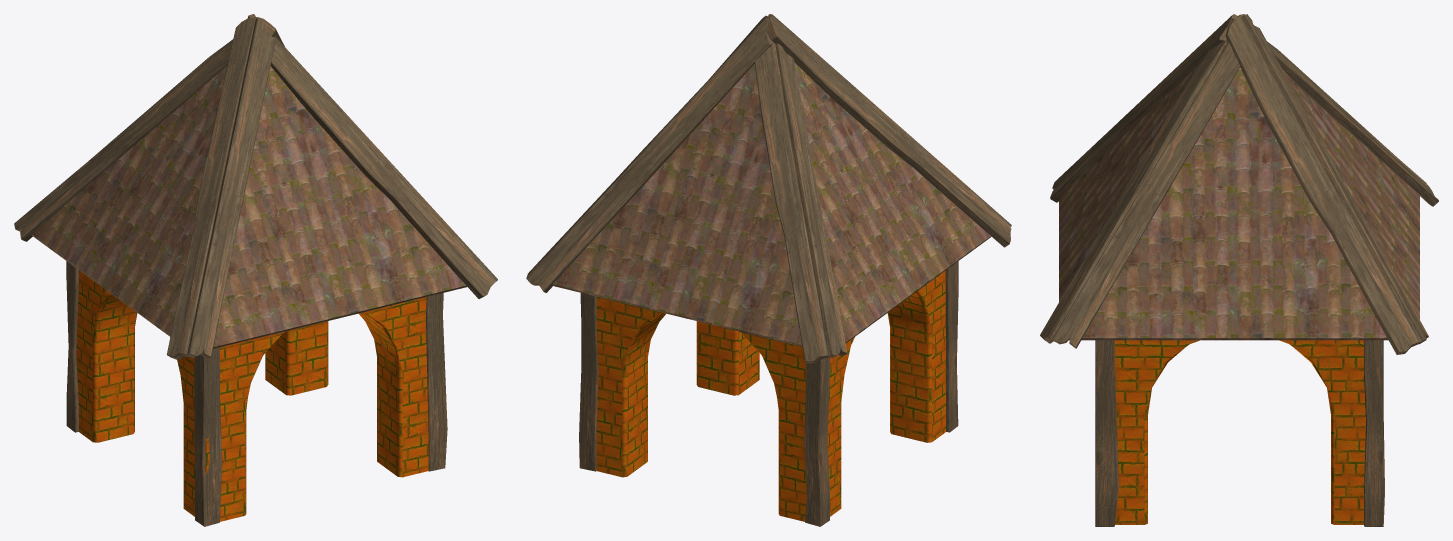
File: SM_roof_tower_01.fbx
The picture shows the model from 3 angles, left to right: view 1: azimuth 30°, elevation 25°; view 2: azimuth 150°, elevation 25°; view 3: azimuth 270°, elevation 25°; orthographic projection. The views are drawn at different scales.
Parts seen in each view (by area): view 1: SM_roof_tower_01_LOD0; view 2: SM_roof_tower_01_LOD0; view 3: SM_roof_tower_01_LOD0.
Part boxes in pixels (x1=…): SM_roof_tower_01_LOD0: x1=14, y1=14, x2=497, y2=526; SM_roof_tower_01_LOD0: x1=526, y1=14, x2=1011, y2=526; SM_roof_tower_01_LOD0: x1=1040, y1=14, x2=1438, y2=526.
Size of the model in its own units: 701 by 701 by 874.
Materials: 3 (3 with a texture image).
